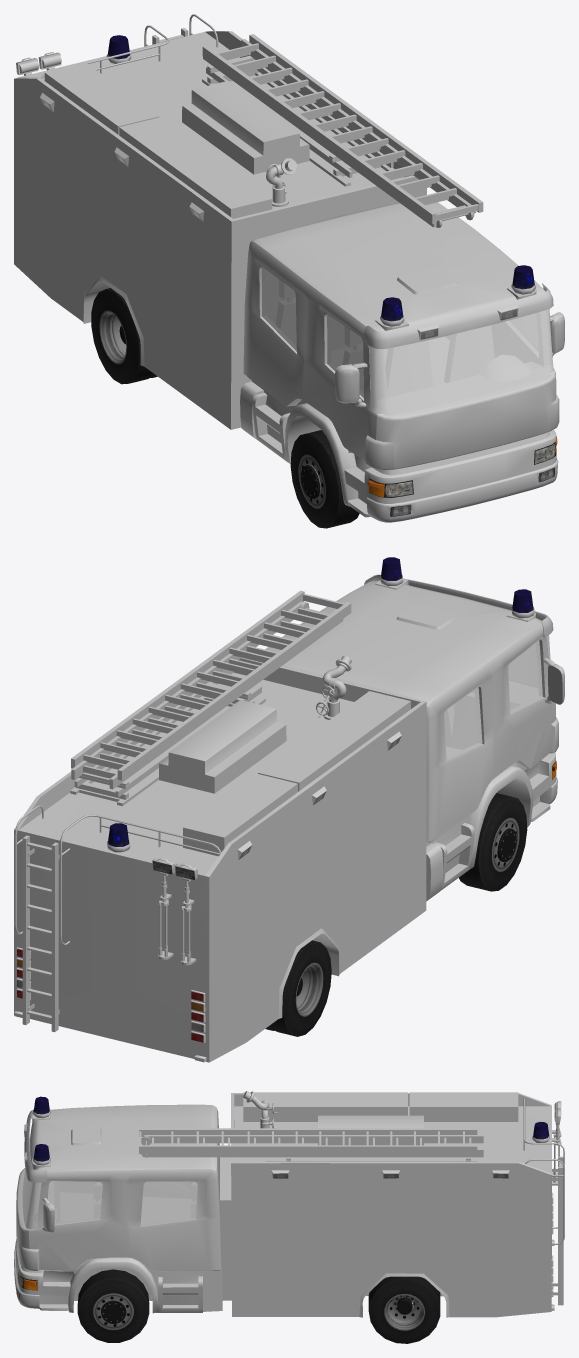
The model's file is Fire_Truck.FBX.
The picture shows the model from 3 angles, top to bottom: view 1: azimuth 30°, elevation 25°; view 2: azimuth 150°, elevation 25°; view 3: azimuth 270°, elevation 25°; orthographic projection. The views are drawn at different scales.
Parts seen in each view (by area): view 1: Fire_Truck_LOD0, Wheels_FR_LOD0, Wheels_RR_LOD0; view 2: Fire_Truck_LOD0, Wheels_FR_LOD0, Wheels_RR_LOD0; view 3: Fire_Truck_LOD0, Wheels_FL_LOD0, Wheels_RL_LOD0.
Part boxes in pixels (box(x1,y1,x2,y2)): Fire_Truck_LOD0: box(14, 14, 564, 522); Wheels_FR_LOD0: box(290, 430, 359, 528); Wheels_RR_LOD0: box(91, 288, 157, 384); Fire_Truck_LOD0: box(14, 557, 564, 1062); Wheels_FR_LOD0: box(459, 793, 527, 891); Wheels_RR_LOD0: box(265, 940, 331, 1036); Fire_Truck_LOD0: box(14, 1091, 564, 1317); Wheels_FL_LOD0: box(77, 1269, 149, 1342); Wheels_RL_LOD0: box(368, 1276, 440, 1343).
Size of what is drawn, in the model's own units: 2.92 by 3.46 by 8.29.
